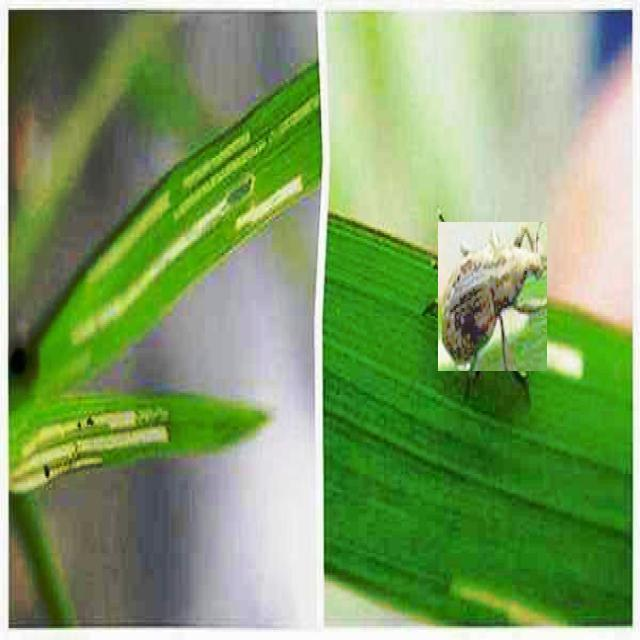rice-bug: (438, 222, 547, 371)
